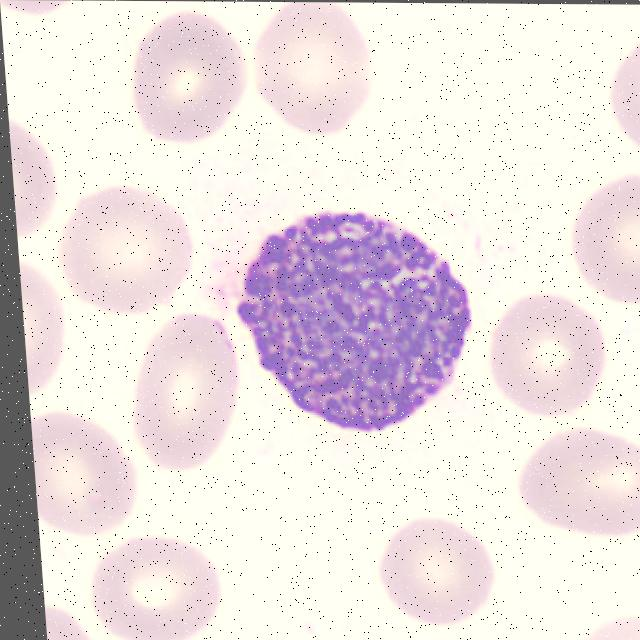basophil: (215, 181, 481, 453)
rbc: (120, 309, 260, 498), (43, 190, 218, 321), (244, 3, 388, 137), (481, 285, 618, 421), (84, 516, 228, 640), (123, 8, 253, 143), (29, 395, 148, 539), (516, 415, 640, 552), (373, 504, 502, 629), (562, 172, 640, 312), (19, 251, 70, 403), (8, 109, 62, 229), (596, 17, 640, 151), (579, 610, 640, 640)
